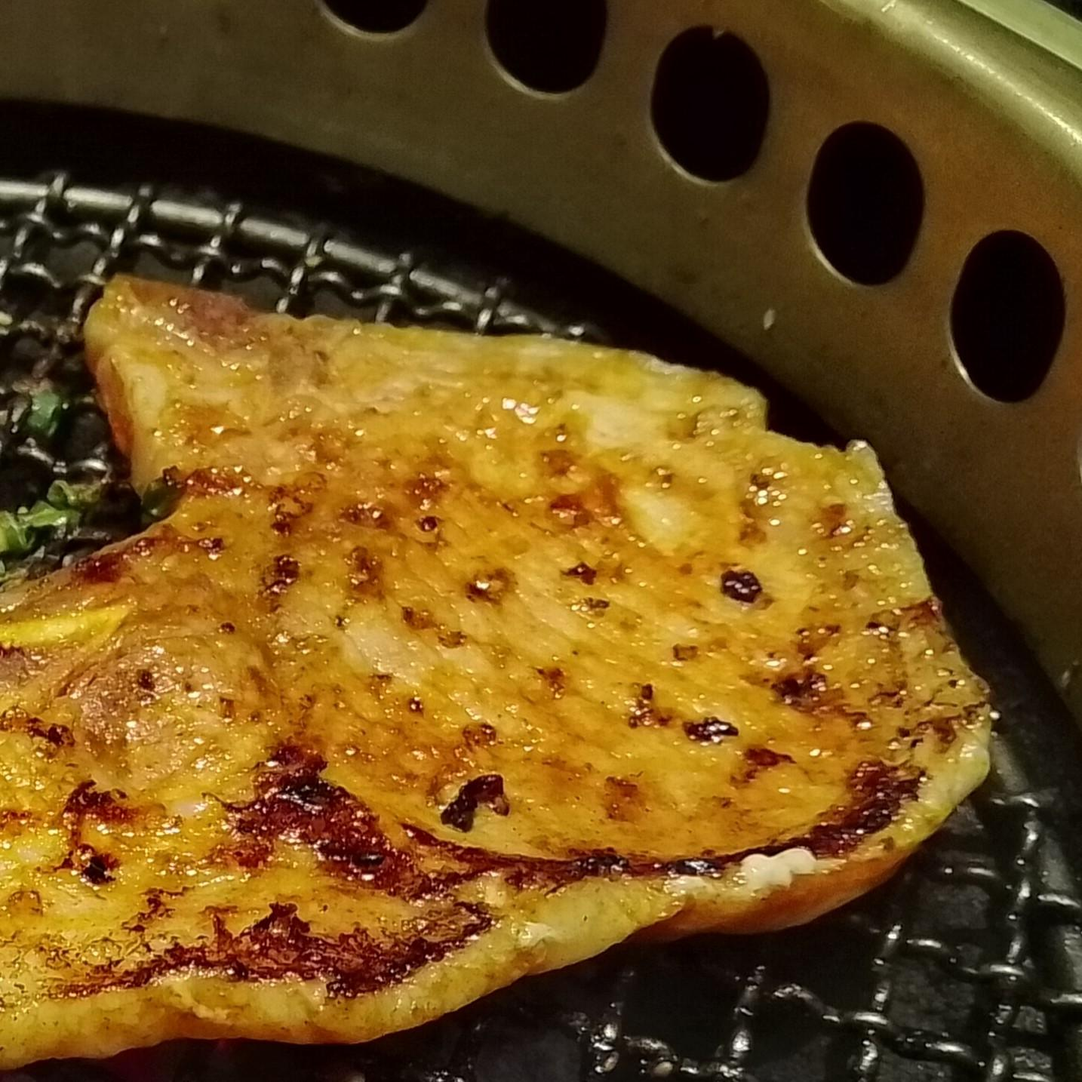Well-Cooked: (0, 275, 997, 1074)
